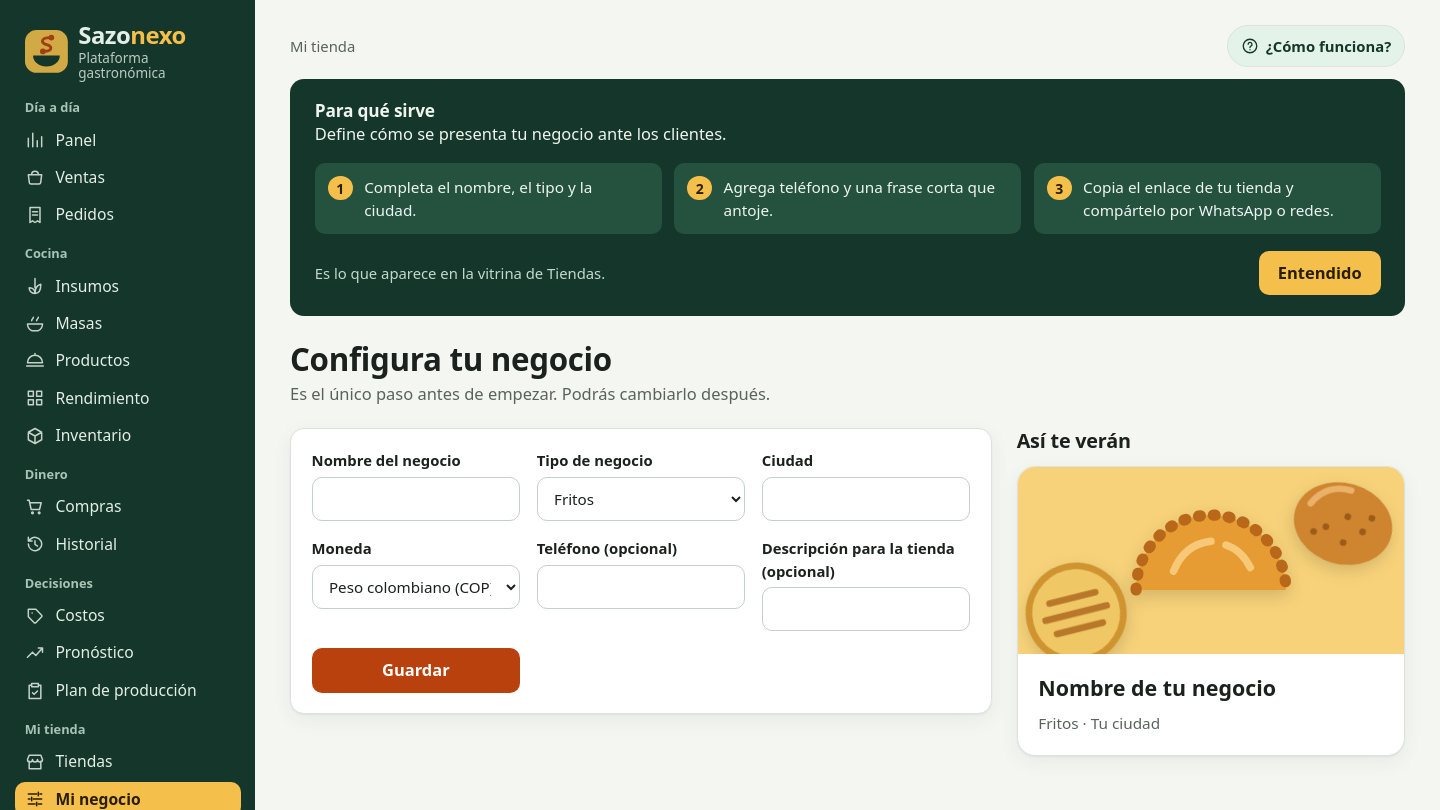
it: HU-02 Negocio (funcionales) › CA-2: al guardar, la sesión queda atada al negocio
Type "Fritos Ana" into the field labelled "Nombre del negocio". click: (416, 499)
box: [312,476,520,521]
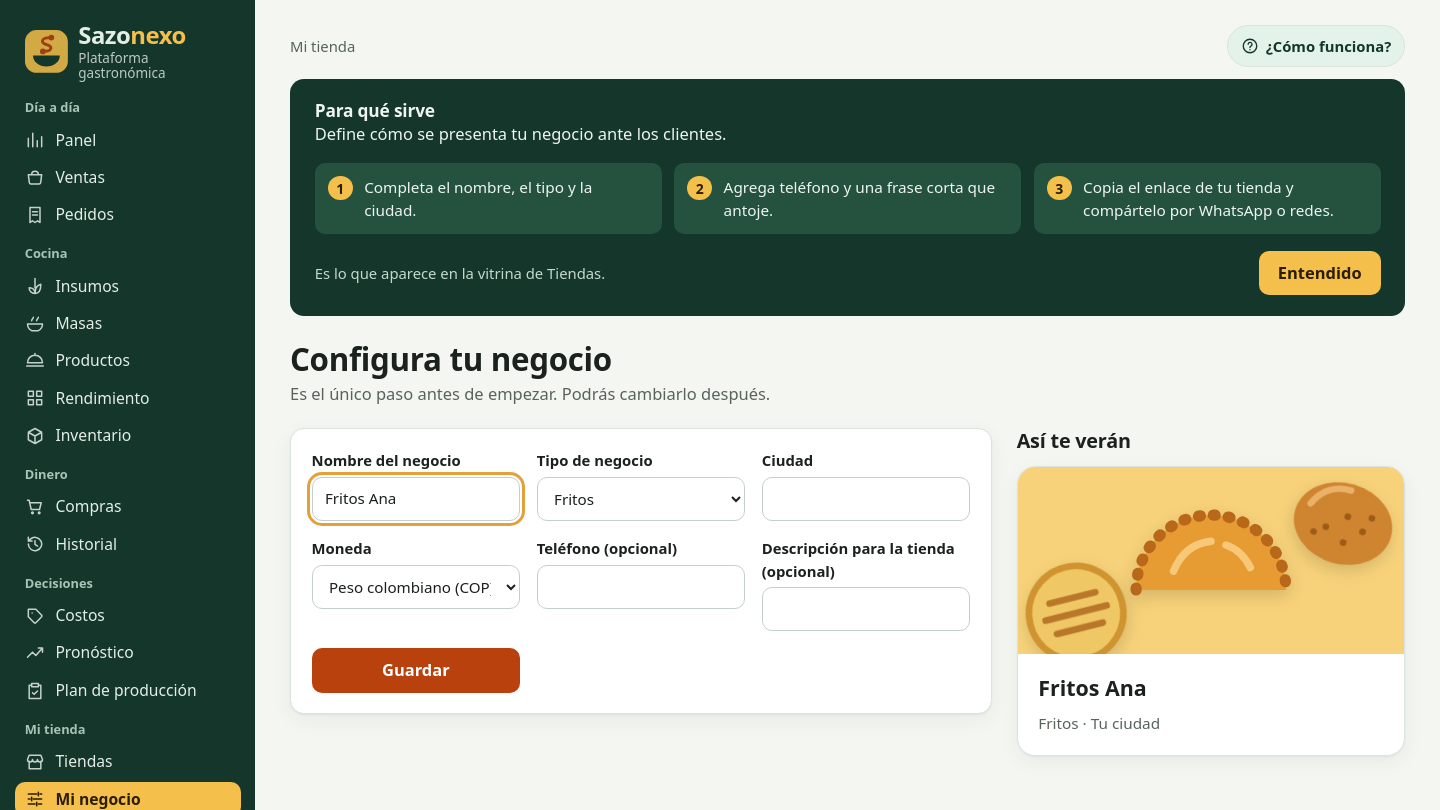
Type "Sincelejo" into the field labelled "Ciudad". click: (866, 499)
box: [762,476,970,521]
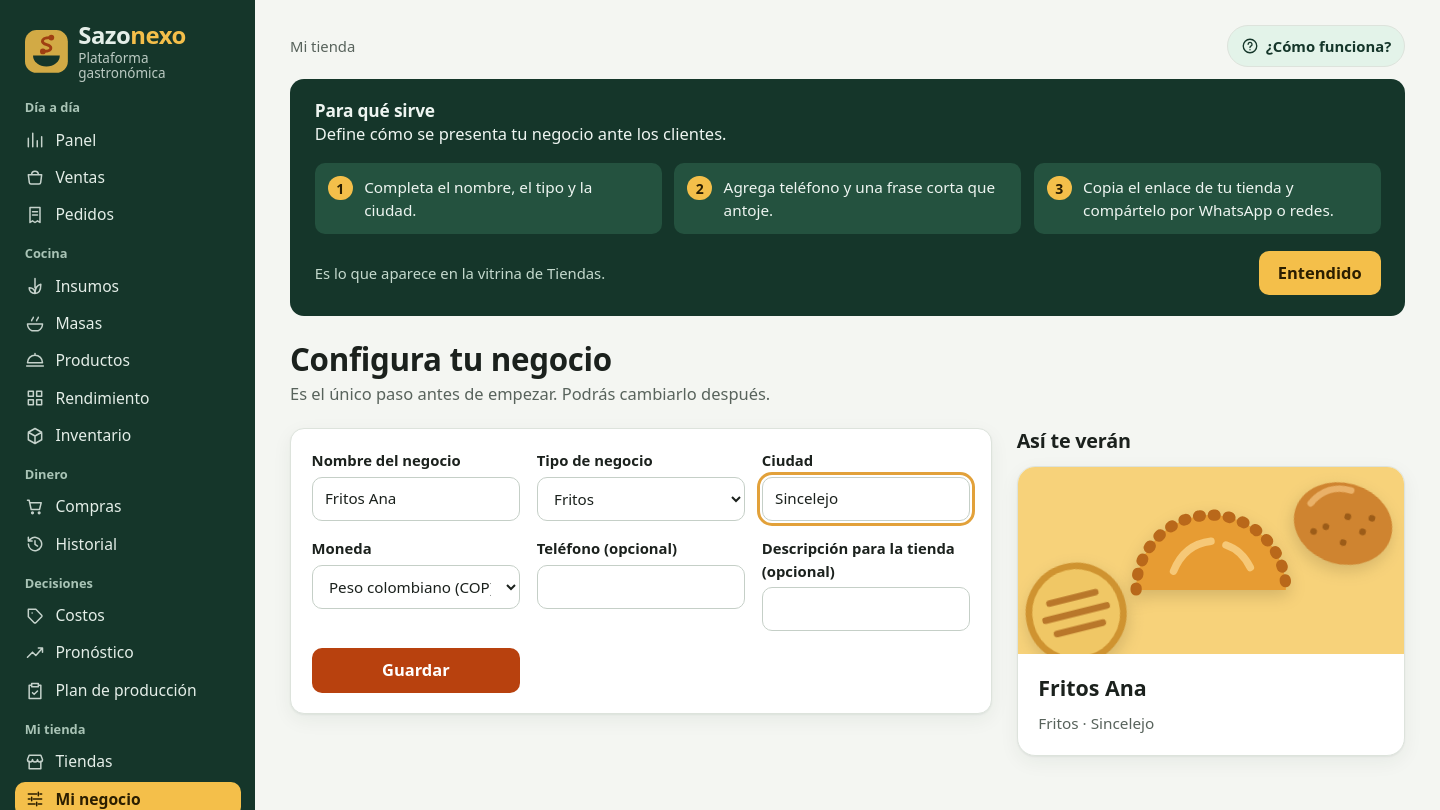
Click the button "Guardar". click: (416, 670)
box: [312,648,520,693]
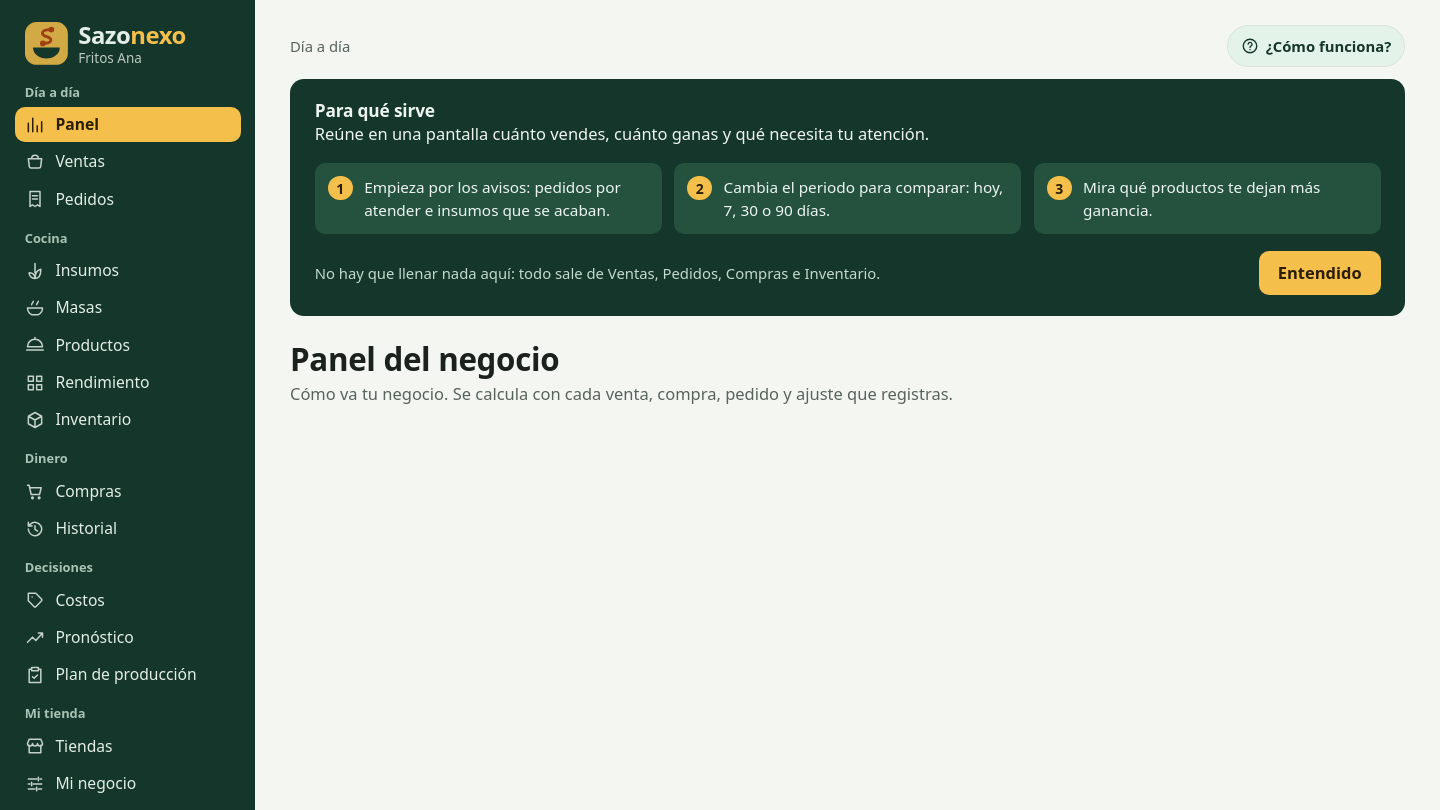
Result: the heading "Panel del negocio" is shown at [290,338,559,380]
